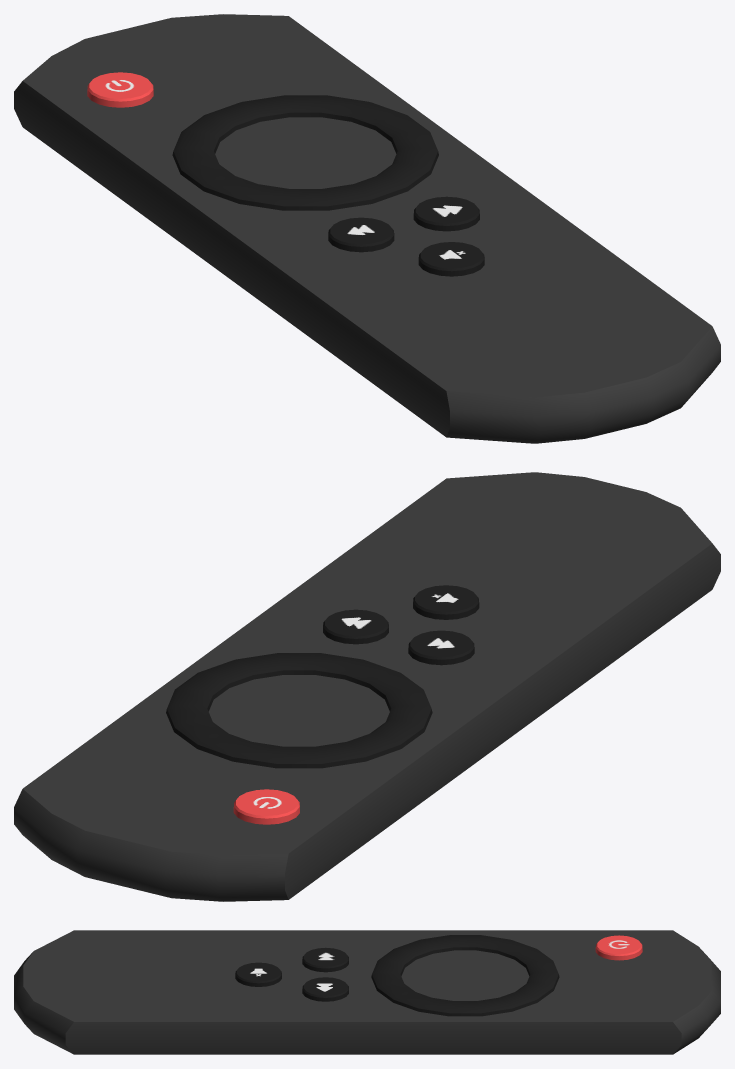
Rendered from Remote2.fbx.
3 views of the same model, one above another, from view 1: azimuth 30°, elevation 25°; view 2: azimuth 150°, elevation 25°; view 3: azimuth 270°, elevation 25° (orthographic). The views are drawn at different scales.
Visible parts, largest first — view 1: Box001, Object001, Object004, Object002, Object003; view 2: Box001, Object001, Object004, Object002, Object003; view 3: Box001, Object001, Object003, Object004, Object002.
Part boxes in pixels (bbox=[...]): Box001: bbox=[14, 14, 720, 443]; Object001: bbox=[87, 72, 153, 107]; Object004: bbox=[418, 242, 484, 276]; Object002: bbox=[328, 217, 394, 252]; Object003: bbox=[413, 196, 479, 231]; Box001: bbox=[14, 472, 720, 901]; Object001: bbox=[233, 789, 299, 824]; Object004: bbox=[413, 585, 479, 619]; Object002: bbox=[408, 630, 474, 665]; Object003: bbox=[323, 609, 388, 644]; Box001: bbox=[14, 930, 720, 1054]; Object001: bbox=[595, 935, 642, 960]; Object003: bbox=[302, 977, 348, 1001]; Object004: bbox=[235, 962, 281, 986]; Object002: bbox=[302, 947, 348, 972].
Size of the model in its own units: 12.1 by 2.34 by 38.68.
